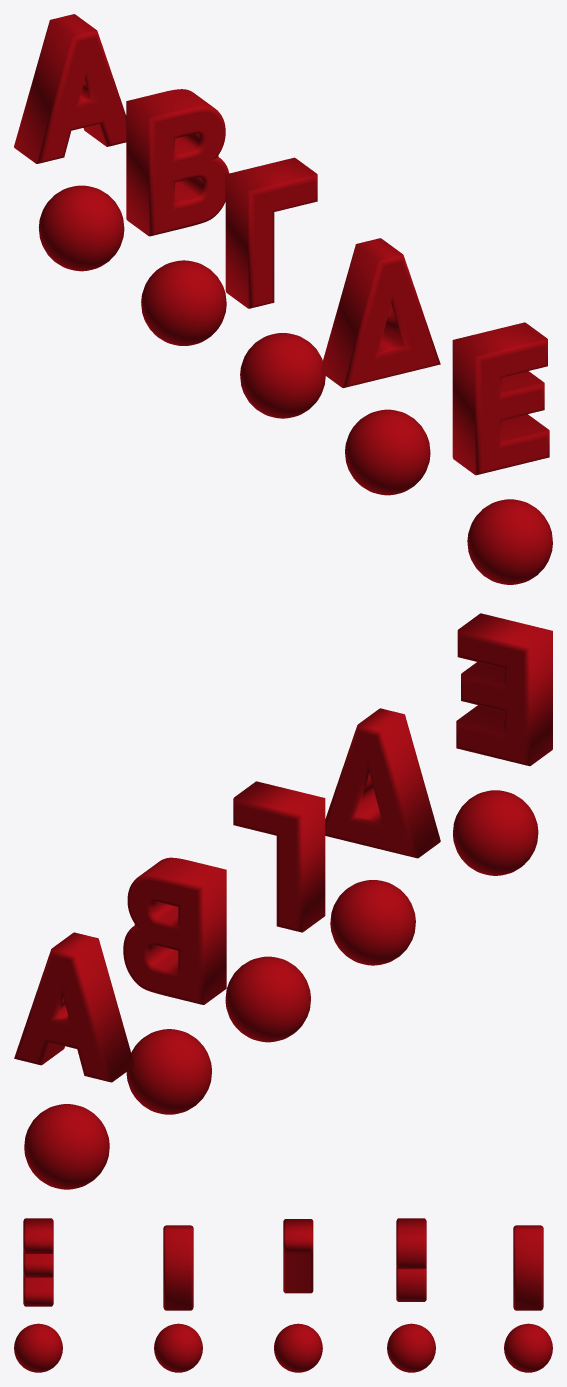
Rendered from Letters.fbx.
3 views of the same model, one above another, from view 1: azimuth 30°, elevation 25°; view 2: azimuth 150°, elevation 25°; view 3: azimuth 270°, elevation 25° (orthographic). The views are drawn at different scales.
Visible parts, largest first — view 1: TextB, TextE, TextD, TextA, TextC, SphereB, SphereE, SphereA, SphereD, SphereC; view 2: TextB, TextE, TextD, TextA, TextC, SphereD, SphereC, SphereA, SphereE, SphereB; view 3: TextE, TextA, TextD, TextB, TextC, SphereA, SphereB, SphereD, SphereE, SphereC.
Boxes of the visible parts, x1,y1,x2,y2 form: TextB: [126, 89, 229, 236]; TextE: [452, 322, 549, 475]; TextD: [320, 238, 440, 387]; TextA: [14, 14, 126, 163]; TextC: [225, 157, 317, 308]; SphereB: [141, 260, 226, 345]; SphereE: [467, 499, 552, 584]; SphereA: [38, 185, 124, 271]; SphereD: [345, 409, 430, 495]; SphereC: [240, 333, 325, 418]; TextB: [123, 857, 226, 1004]; TextE: [456, 613, 552, 766]; TextD: [325, 708, 440, 858]; TextA: [14, 932, 134, 1082]; TextC: [233, 781, 325, 932]; SphereD: [330, 880, 415, 965]; SphereC: [225, 956, 310, 1042]; SphereA: [24, 1104, 109, 1189]; SphereE: [453, 790, 538, 875]; SphereB: [126, 1029, 211, 1114]; TextE: [23, 1218, 53, 1306]; TextA: [513, 1225, 543, 1310]; TextD: [163, 1225, 193, 1310]; TextB: [396, 1218, 426, 1301]; TextC: [283, 1219, 313, 1293]; SphereA: [504, 1323, 552, 1372]; SphereB: [387, 1323, 435, 1372]; SphereD: [154, 1323, 202, 1372]; SphereE: [14, 1323, 62, 1372]; SphereC: [274, 1323, 322, 1372].
Size of the model in its own units: 151 by 358 by 1255.
